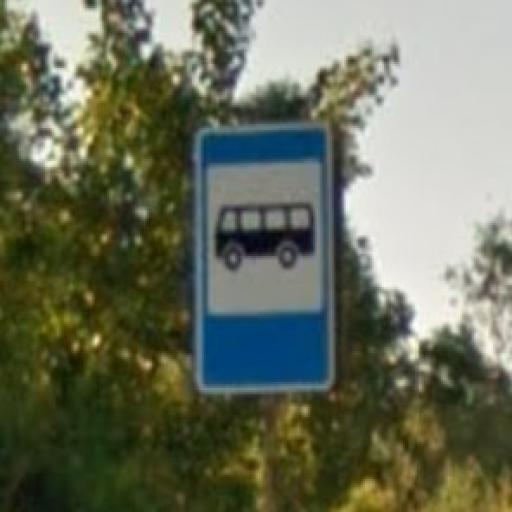traffic_sign: (195, 121, 337, 397)
